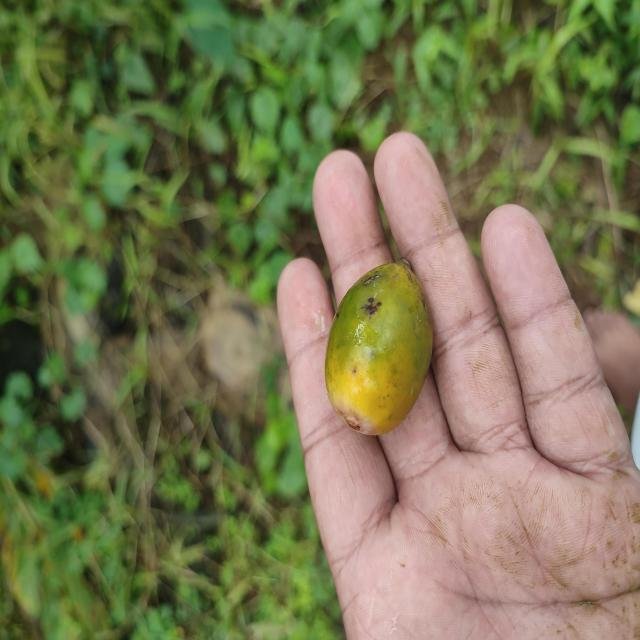good: (323, 262, 435, 437)
